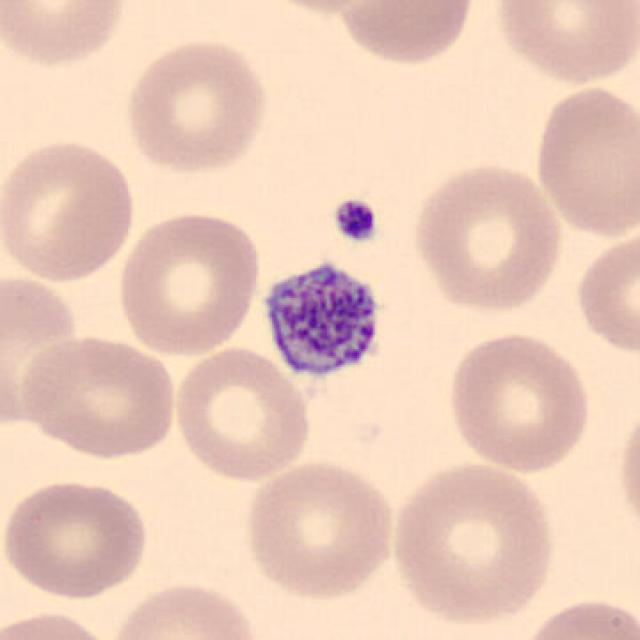Platelets: (252, 252, 388, 390), (329, 196, 382, 245)
RBC: (386, 456, 560, 630), (409, 159, 567, 317), (240, 457, 400, 603), (442, 326, 596, 476), (114, 206, 265, 358), (119, 34, 274, 178), (15, 330, 182, 462), (0, 132, 140, 285), (169, 342, 315, 485), (0, 474, 153, 601), (530, 78, 638, 242), (0, 264, 84, 426), (489, 0, 638, 88), (334, 0, 480, 69), (105, 578, 267, 640), (0, 0, 132, 71), (571, 226, 638, 360), (516, 592, 638, 640), (611, 393, 640, 544), (0, 606, 117, 640), (247, 0, 397, 16)
